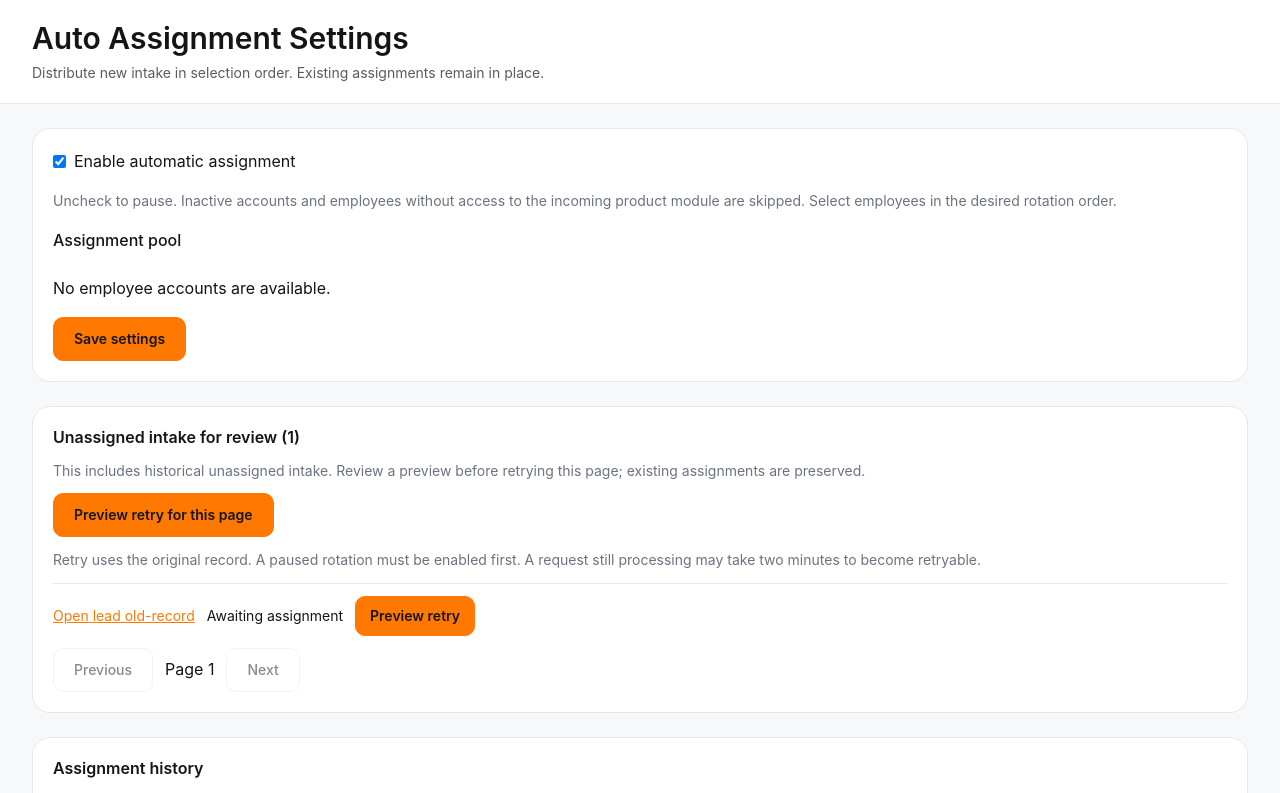
it: Owner auto assignment controls › requires preview and explicit confirmation before retrying historical intake
What coordinates should you click on to do the following:
click the button "Preview retry for this page"
I would click on:
 (163, 515)
Its box is x1=53 y1=493 x2=274 y2=537.
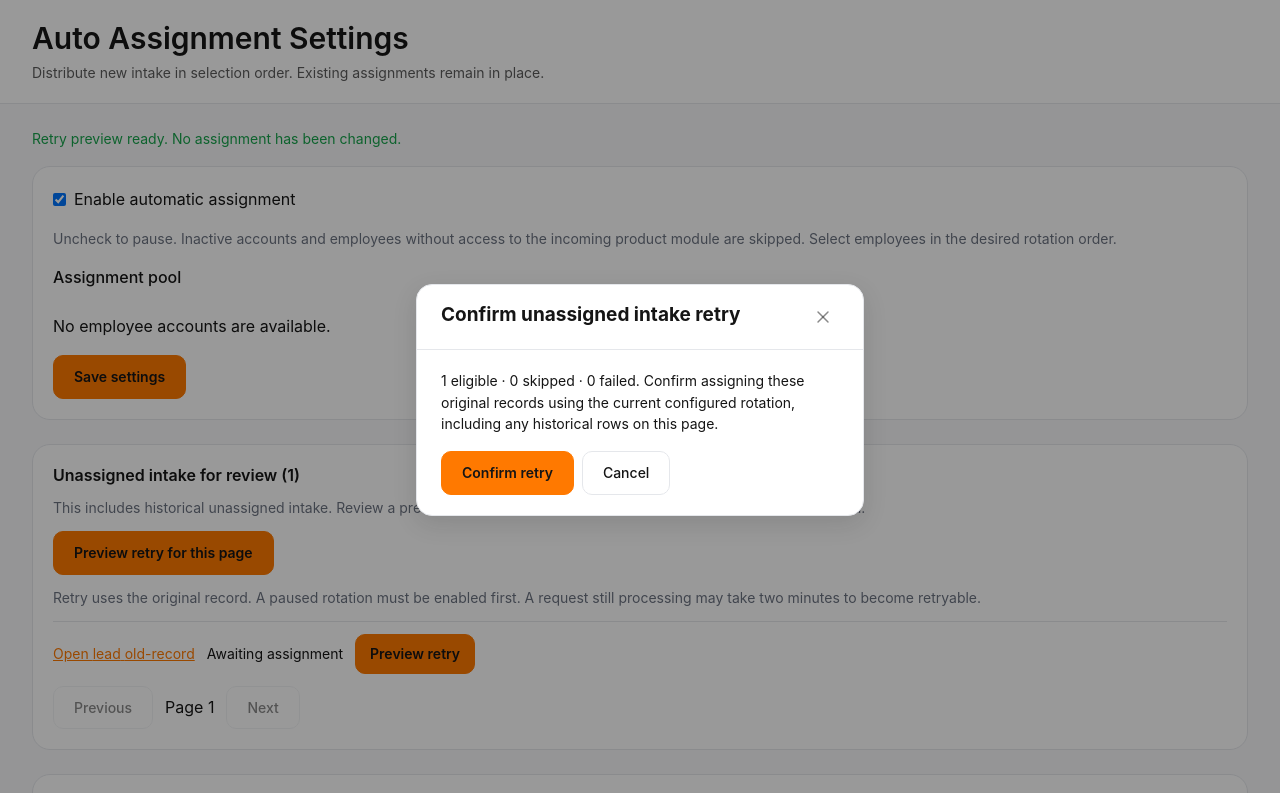
expect the dialog "Confirm unassigned intake retry" is shown: met, box x1=416 y1=284 x2=864 y2=516
What coordinates should you click on to do the following:
click the button "Confirm retry"
I would click on:
 (507, 473)
Its box is x1=441 y1=451 x2=574 y2=495.
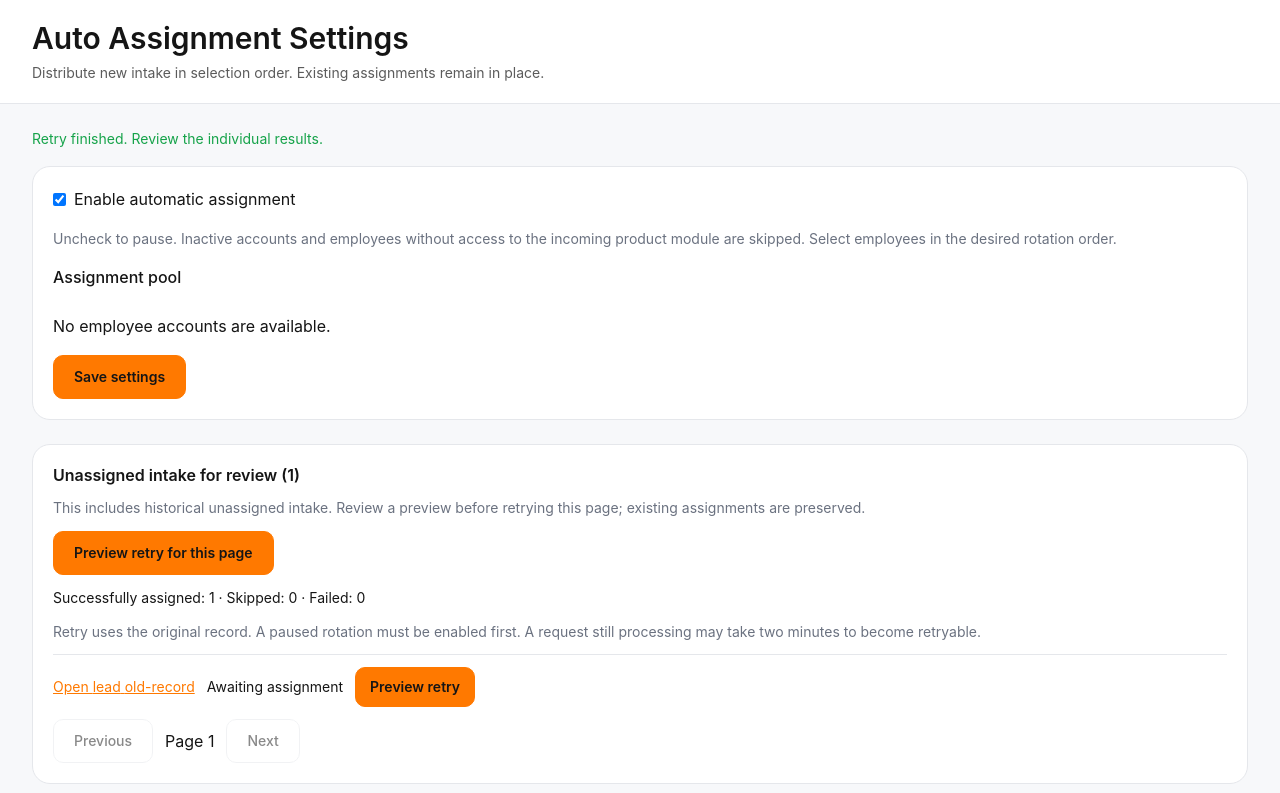
expect the text "Successfully assigned: 1 · Skipped: 0 · Failed: 0" is shown: met, box x1=53 y1=589 x2=365 y2=606
